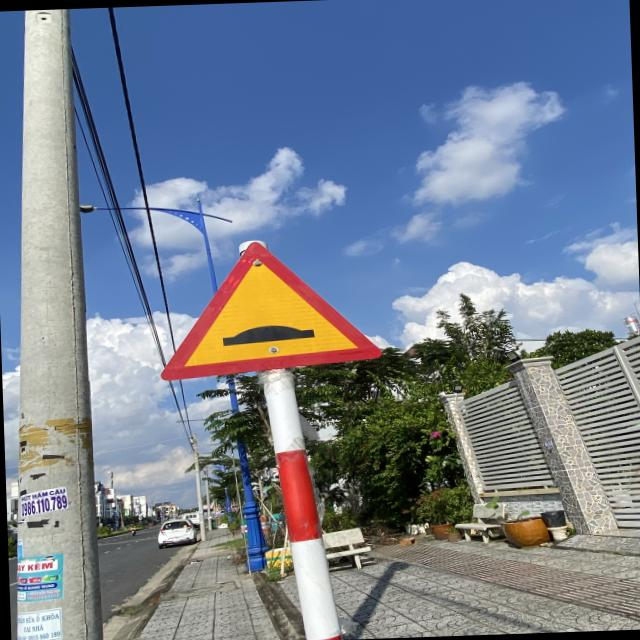Duong_Cong_Ben_Phai: (152, 238, 385, 380)
